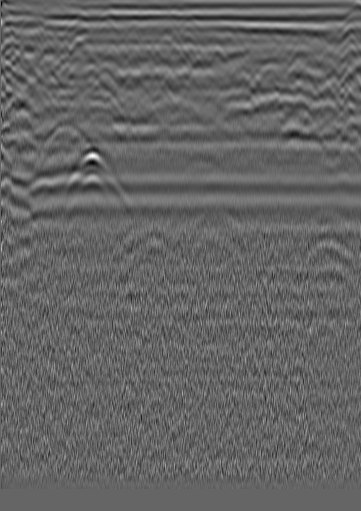가스: (64, 150, 107, 188)
상수: (320, 31, 340, 51)
오수: (30, 34, 50, 54)
우수: (213, 42, 233, 62)
